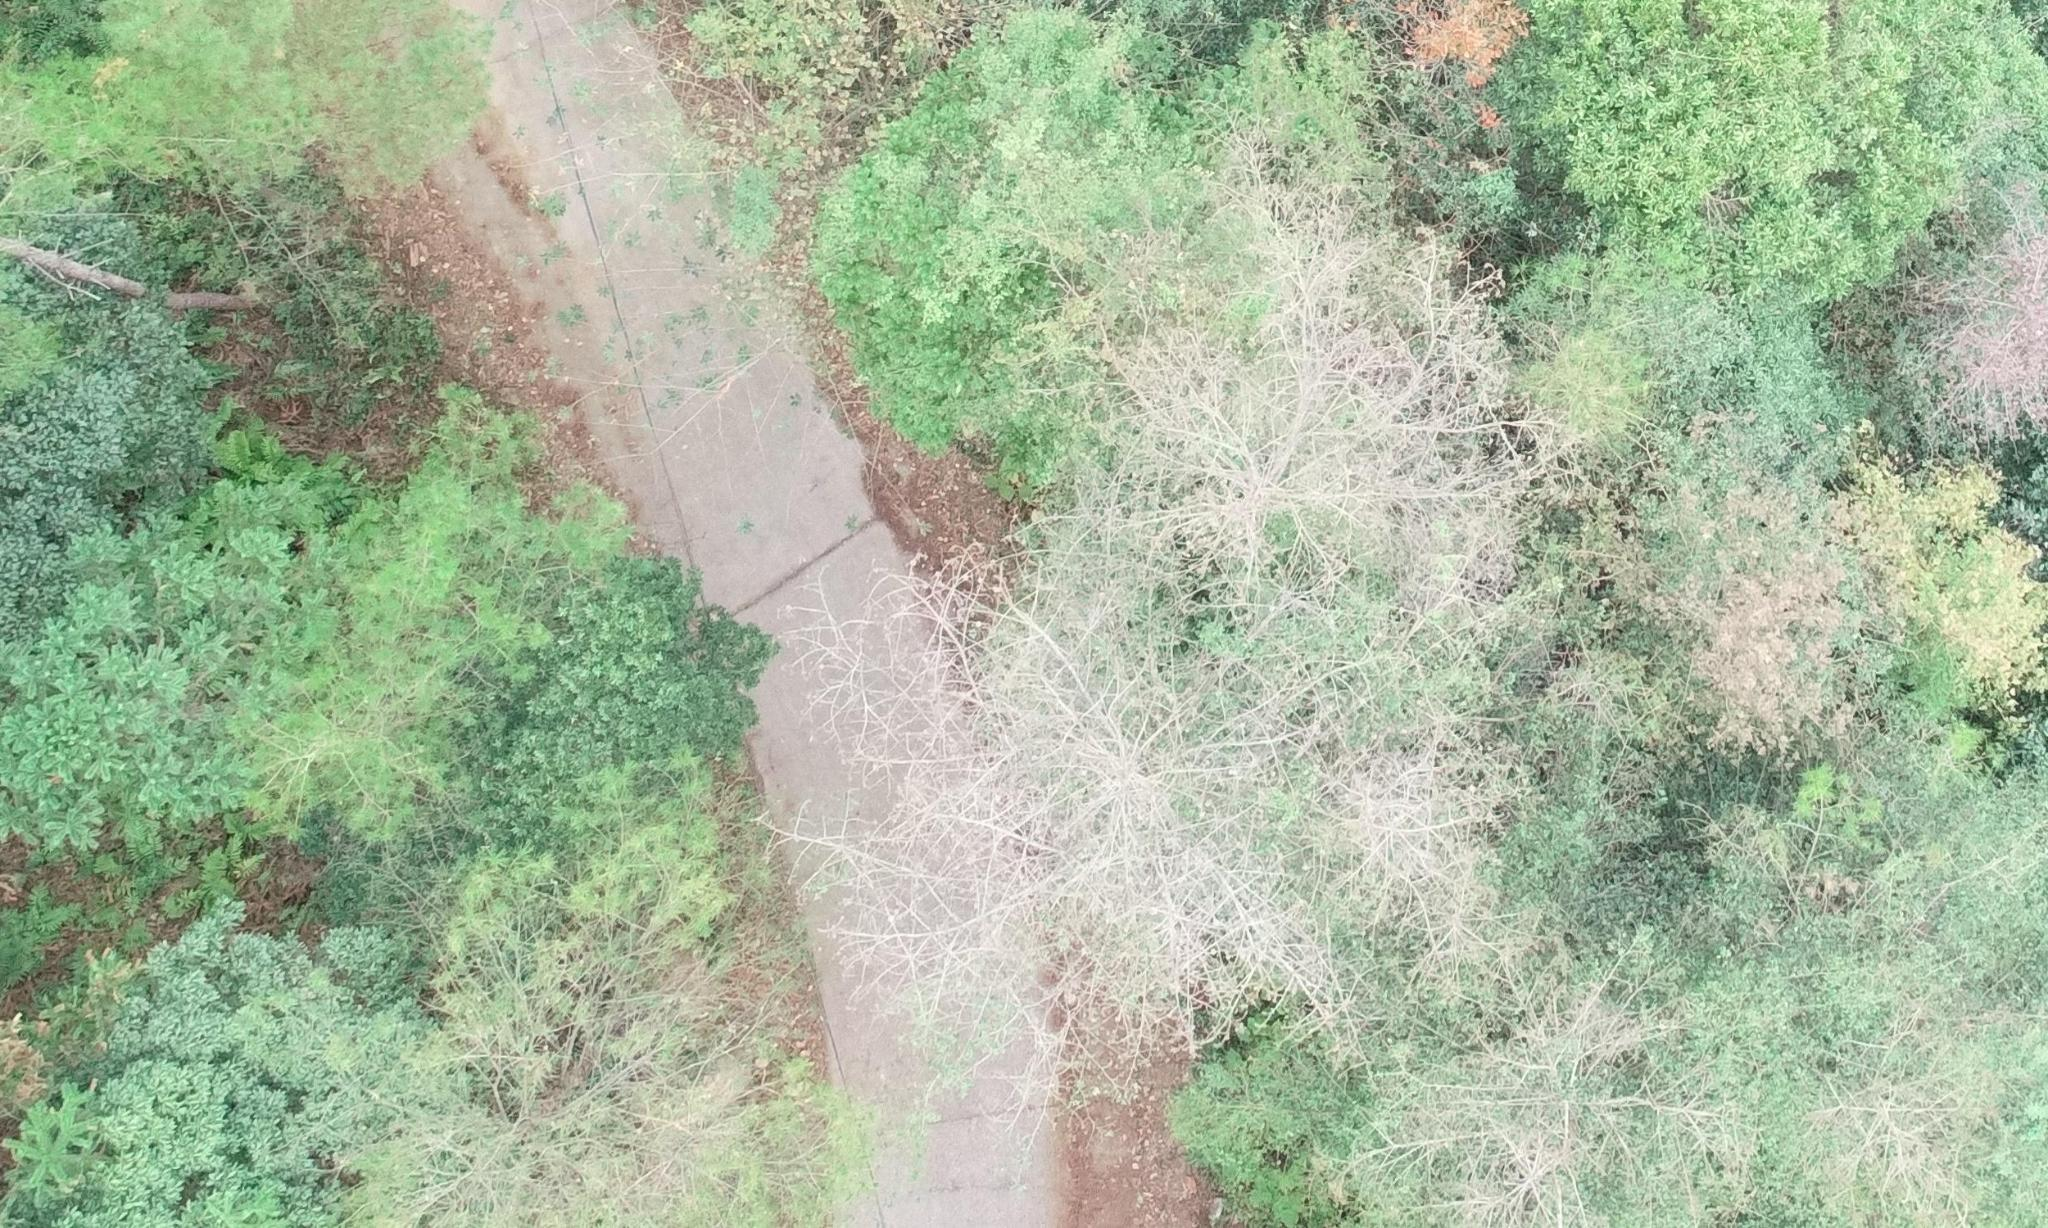dead: (782, 566, 1438, 1098), (969, 158, 1579, 535)
light: (333, 849, 747, 1228)
